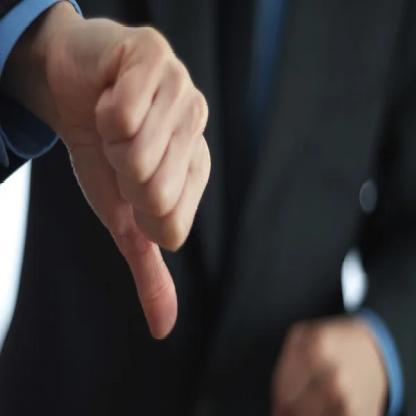thumb_down: (62, 13, 212, 346)
